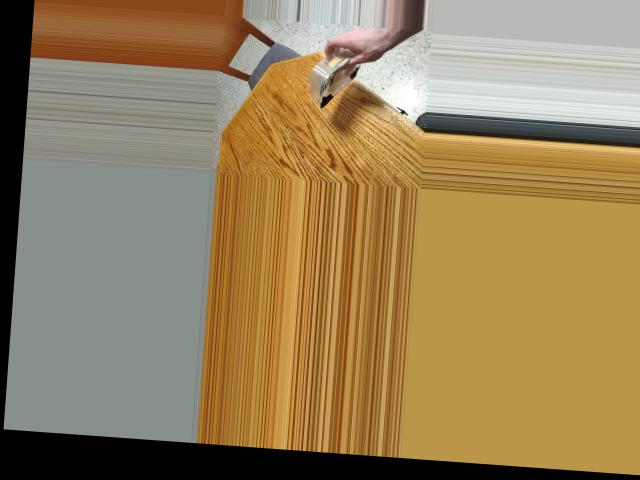cheese: (294, 42, 369, 104)
